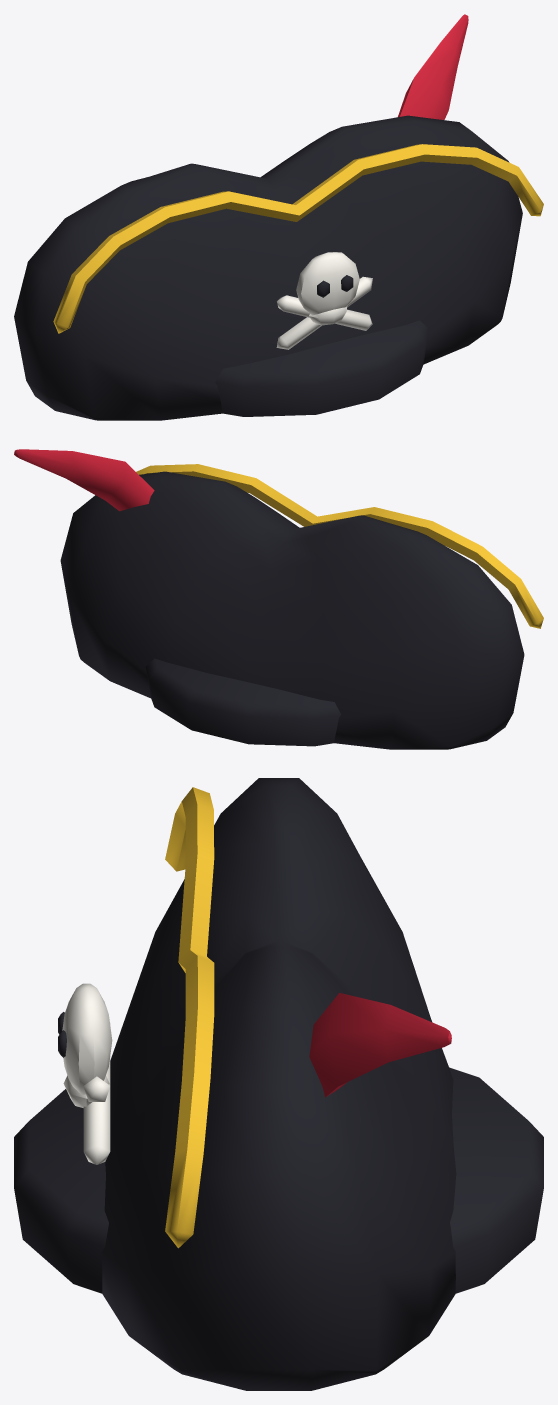
Rendered from H03_PirateHat.fbx.
The picture shows the model from 3 angles, top to bottom: view 1: azimuth 30°, elevation 25°; view 2: azimuth 150°, elevation 25°; view 3: azimuth 270°, elevation 25°; orthographic projection. The views are drawn at different scales.
Visible parts, largest first — view 1: H03_PirateHat; view 2: H03_PirateHat; view 3: H03_PirateHat.
Boxes of the visible parts, x1,y1,x2,y2 form: H03_PirateHat: (14, 14, 543, 420); H03_PirateHat: (14, 449, 543, 749); H03_PirateHat: (14, 778, 543, 1390).
Size of the model in its own units: 0.7222 by 0.3275 by 0.4134.
